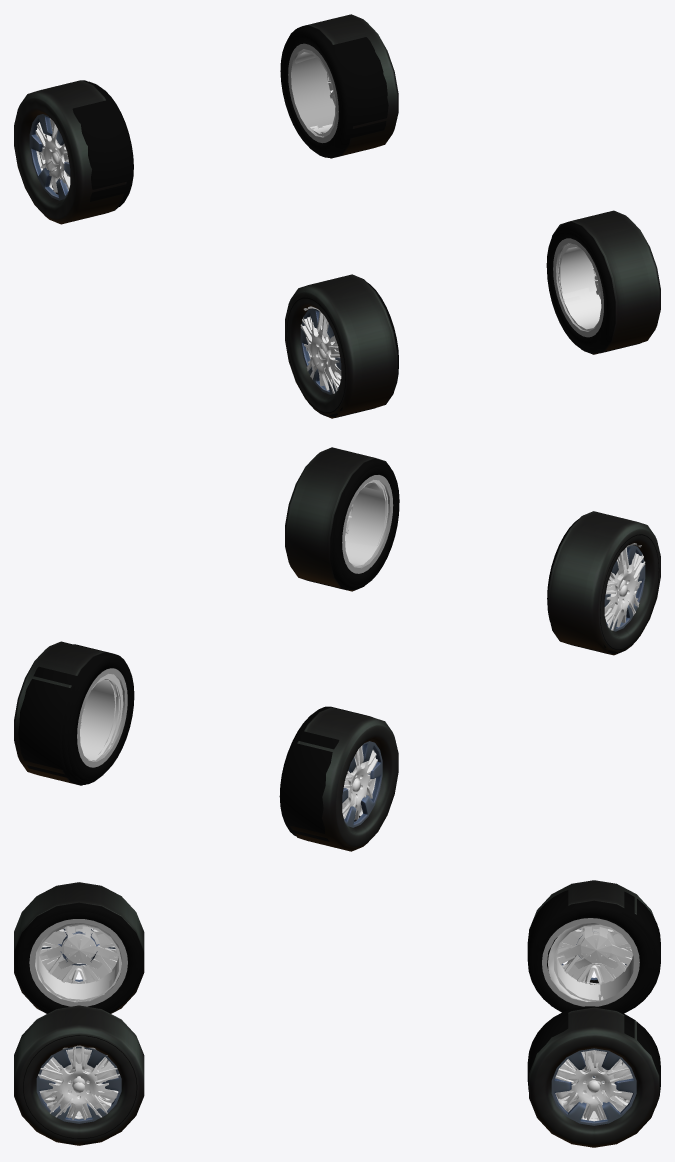
The model's file is NissanSilvia_wheels.fbx.
3 renders of one model, top to bottom at view 1: azimuth 30°, elevation 25°; view 2: azimuth 150°, elevation 25°; view 3: azimuth 270°, elevation 25°, orthographic. The views are drawn at different scales.
Visible parts, largest first — view 1: Nissan_silvia_s15_wheel.F_R, WheelStarRB, Nissan_silvia_s15_wheel.B_R, Nissan_silvia_s15_wheel.F_L, WheelStarLB, WheelStarLF, Nissan_silvia_s15_wheel.B_L, WheelFutureRF, WheelSimple_LF, WheelFlowerRF, WheelPalmLF, WheelStarRF (+2 smaller); view 2: Nissan_silvia_s15_wheel.F_R, Nissan_silvia_s15_wheel.B_R, Nissan_silvia_s15_wheel.F_L, WheelMagicLB, WheelMagicRB, WheelStarLF, WheelStarRB, Nissan_silvia_s15_wheel.B_L, WheelFiveLF, WheelFutureRF, WheelPalmLF1, WheelFiveLB (+5 smaller); view 3: Nissan_silvia_s15_wheel.F_L, Nissan_silvia_s15_wheel.B_L, WheelStarLB, WheelStarRF, Nissan_silvia_s15_wheel.F_R, WheelMagicRB, WheelThreeStar_RB, WheelThreeStar_RF, WheelFutureLF, WheelPalmRF, WheelPalmRB, WheelStarRB (+11 smaller).
Boxes of the visible parts, <box> form: Nissan_silvia_s15_wheel.F_R: <box>285,274,397,418</box>; WheelStarRB: <box>281,29,388,156</box>; Nissan_silvia_s15_wheel.B_R: <box>14,80,126,224</box>; Nissan_silvia_s15_wheel.F_L: <box>551,210,660,354</box>; WheelStarLB: <box>35,84,133,206</box>; WheelStarLF: <box>546,223,614,348</box>; Nissan_silvia_s15_wheel.B_L: <box>306,14,398,158</box>; WheelFutureRF: <box>286,297,377,417</box>; WheelSimple_LF: <box>559,243,615,350</box>; WheelFlowerRF: <box>558,221,603,331</box>; WheelPalmLF: <box>547,230,614,353</box>; WheelStarRF: <box>300,282,398,393</box>; Nissan_silvia_s15_wheel.F_R: <box>548,511,660,655</box>; Nissan_silvia_s15_wheel.B_R: <box>289,707,398,851</box>; Nissan_silvia_s15_wheel.F_L: <box>285,447,388,591</box>; WheelMagicLB: <box>18,663,115,779</box>; WheelMagicRB: <box>279,718,375,841</box>; WheelStarLF: <box>332,459,399,584</box>; WheelStarRB: <box>72,644,134,778</box>; Nissan_silvia_s15_wheel.B_L: <box>14,641,104,785</box>; WheelFiveLF: <box>330,482,386,581</box>; WheelFutureRF: <box>569,534,659,654</box>; WheelPalmLF1: <box>67,659,132,781</box>; WheelFiveLB: <box>61,661,119,777</box>; Nissan_silvia_s15_wheel.F_L: <box>14,1005,144,1145</box>; Nissan_silvia_s15_wheel.B_L: <box>529,1007,659,1147</box>; WheelStarLB: <box>527,890,650,1012</box>; WheelStarRF: <box>15,904,139,1011</box>; Nissan_silvia_s15_wheel.F_R: <box>14,882,144,1013</box>; WheelMagicRB: <box>554,891,660,1007</box>; WheelThreeStar_RB: <box>547,921,656,1013</box>; WheelThreeStar_RF: <box>35,923,122,1001</box>; WheelFutureLF: <box>39,1045,118,1144</box>; WheelPalmRF: <box>15,911,140,1013</box>; WheelPalmRB: <box>533,904,654,1011</box>; WheelStarRB: <box>527,1006,632,1119</box>.
Size of the model in its own units: 176 by 64.96 by 318.
20 materials, 1 textured.
